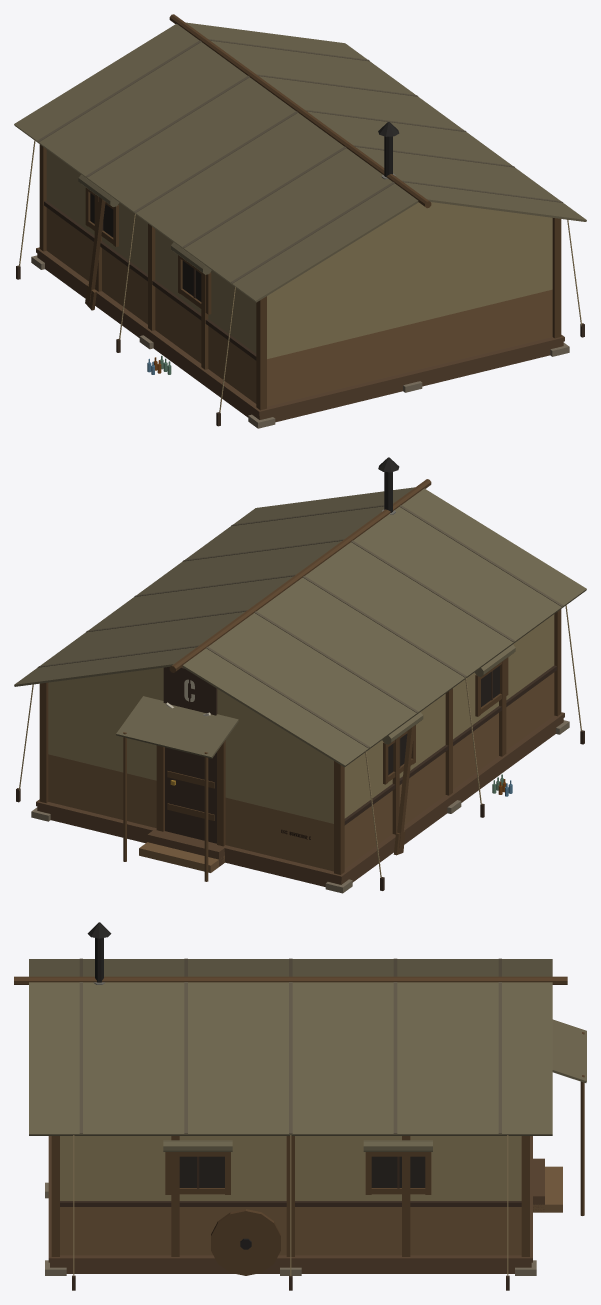
File: BunkhouseC.glb
3 renders of one model, top to bottom at view 1: azimuth 30°, elevation 25°; view 2: azimuth 150°, elevation 25°; view 3: azimuth 270°, elevation 25°, orthographic. The views are drawn at different scales.
Parts seen in each view (by area): view 1: BunkhouseC; view 2: BunkhouseC; view 3: BunkhouseC.
Boxes of the visible parts, x1,y1,x2,y2 form: BunkhouseC: (14,14,586,428); BunkhouseC: (14,457,586,893); BunkhouseC: (14,922,586,1290).
Bounding box in the file's own units: 7.68 × 5.07 × 9.58.
